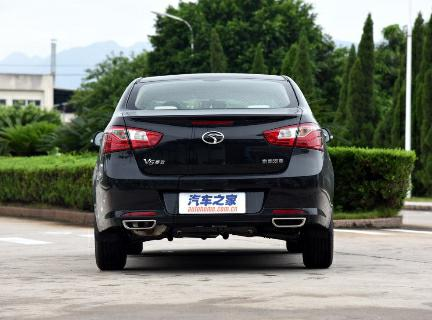东南-V5菱致: (93, 74, 336, 276)
